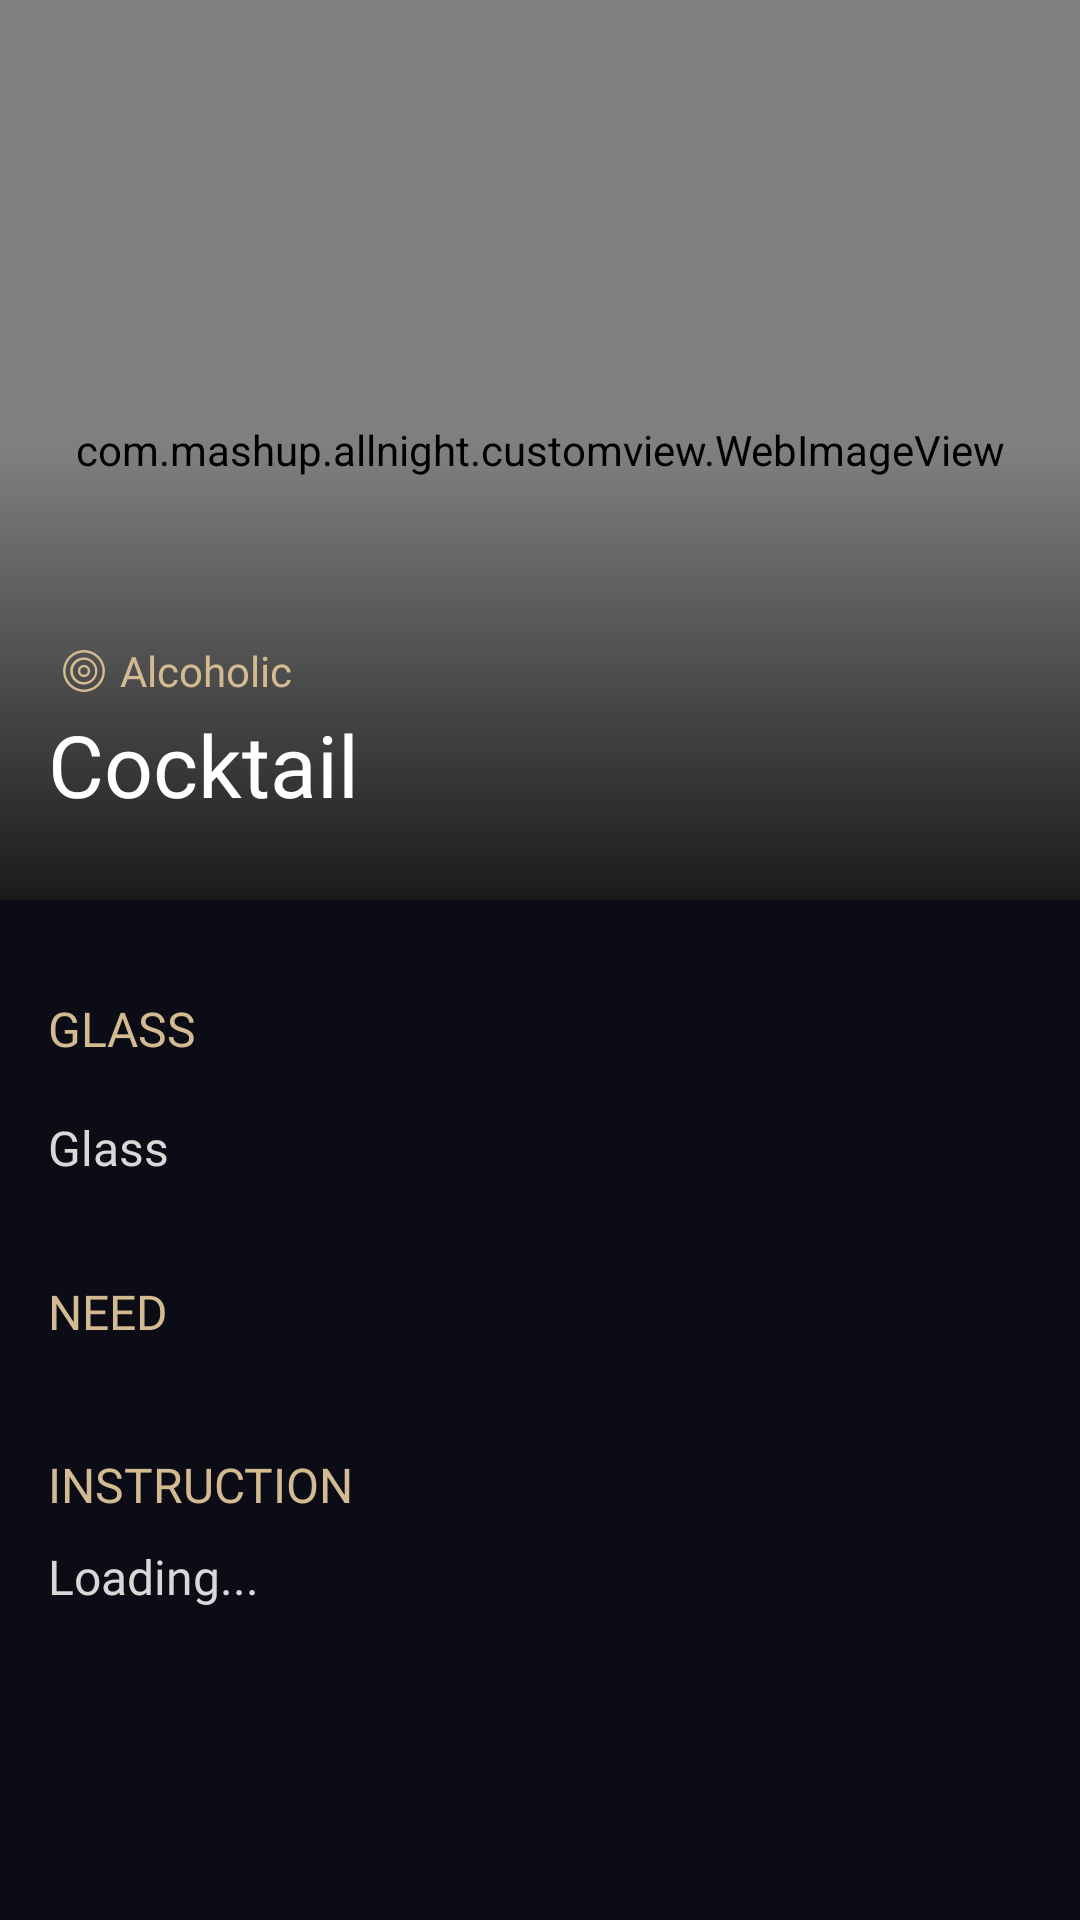

Icons on this 1080 × 1920 Android screen, each with its box as region(x1, y1, x2, y2):
detail title circles: region(63, 650, 105, 692)
